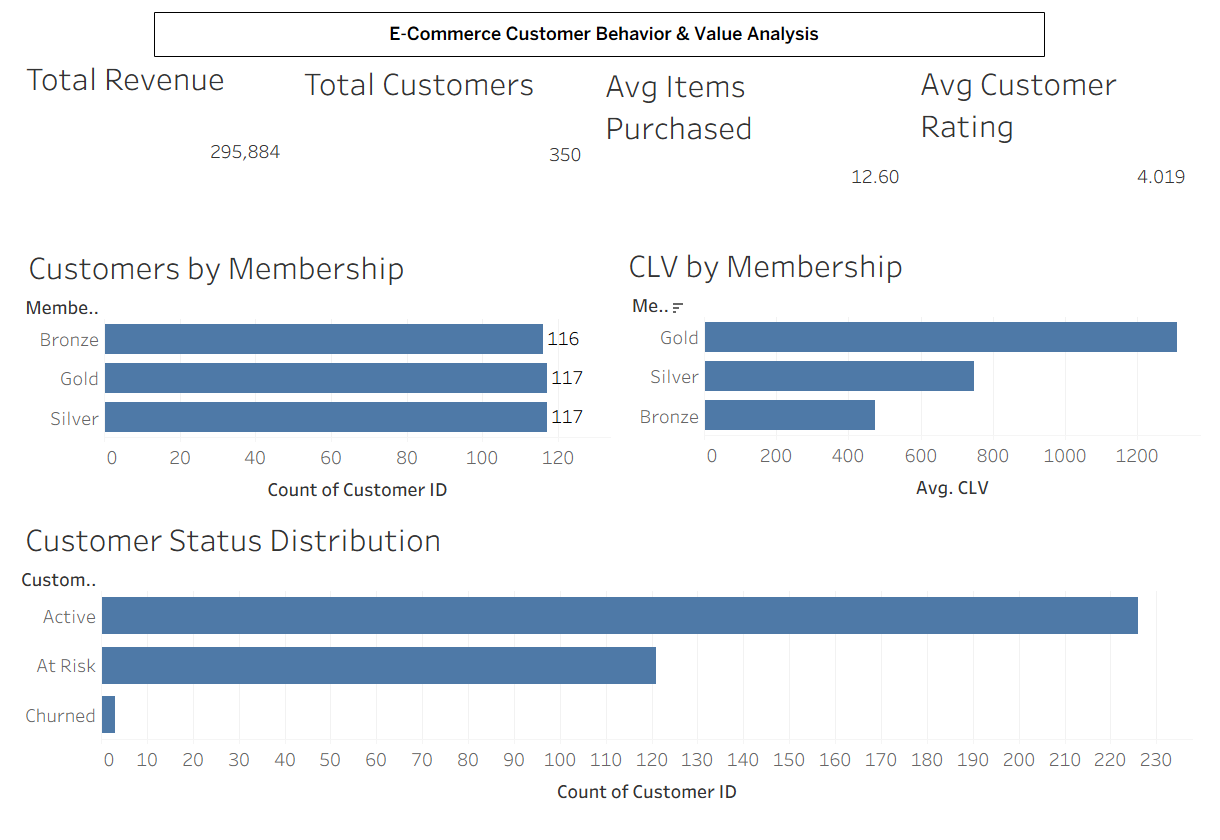

What the dashboard file says about the page in this screenshot:
{"tool":"tableau","page":{"name":"  E-Commerce Customer Behavior & Value Analysis","canvas":[1200,800],"ordinal":0},"visuals":[{"type":"text","box":[144,0,891,45]},{"type":"worksheet","title":"Total Revenue","mark":"Automatic","box":[12,41,263,140]},{"type":"worksheet","title":"Total Customers","mark":"Automatic","box":[290,46,286,135]},{"type":"worksheet","title":"Avg Customer Rating","mark":"Automatic","box":[906,46,274,137]},{"type":"worksheet","title":"Avg Items Purchased","mark":"Automatic","box":[591,48,303,134]},{"type":"worksheet","title":"CLV by Membership","mark":"Automatic","rows":["Membership Type"],"cols":["Calculation_0503342025363456"],"box":[614,228,577,266]},{"type":"worksheet","title":"Customers by Membership","mark":"Automatic","rows":["Membership Type"],"cols":["Customer ID"],"box":[14,230,587,266]},{"type":"worksheet","title":"Customer Status Distribution","mark":"Automatic","rows":["Calculation_0503342026031106"],"cols":["Customer ID"],"box":[11,502,1172,296]}]}

Visuals, with their boxes on the page's 1200x800 design canvas (x1, y1, x2, y2). These are canvas units, not pixel positions in the 1220x840 screenshot, which may show the page scaled, cropped or inside an application window:
text: region(144, 0, 1035, 45)
"Total Revenue" worksheet: region(12, 41, 275, 181)
"Total Customers" worksheet: region(290, 46, 576, 181)
"Avg Customer Rating" worksheet: region(906, 46, 1180, 183)
"Avg Items Purchased" worksheet: region(591, 48, 894, 182)
"CLV by Membership" worksheet: region(614, 228, 1191, 494)
"Customers by Membership" worksheet: region(14, 230, 601, 496)
"Customer Status Distribution" worksheet: region(11, 502, 1183, 798)
